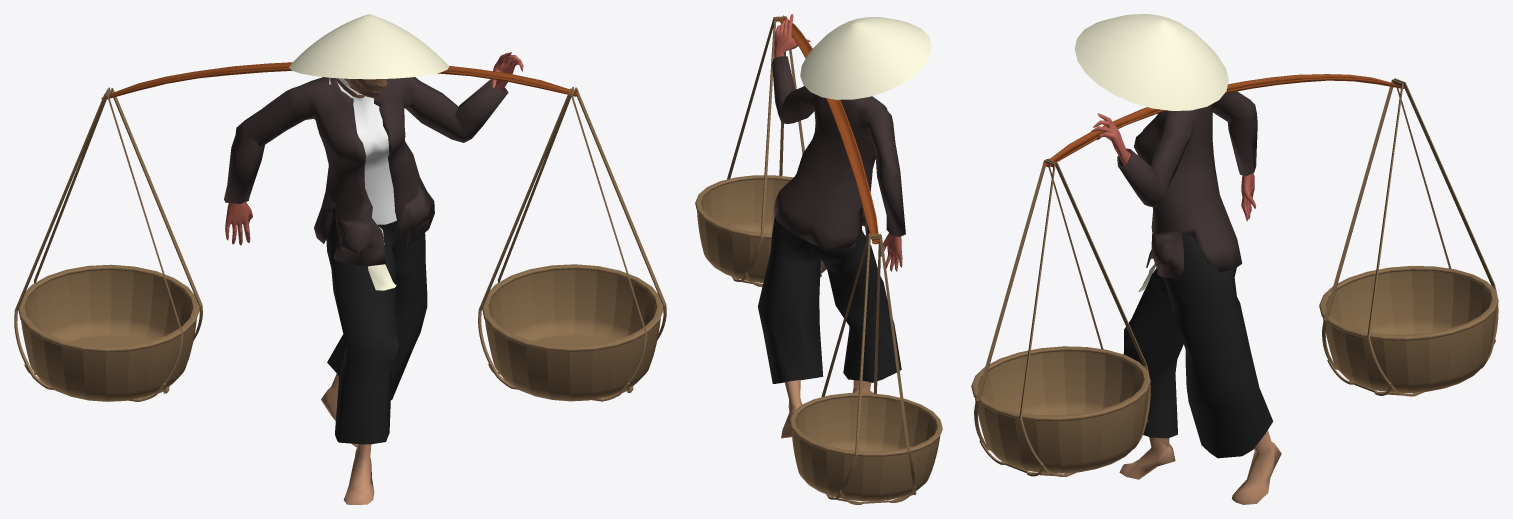
Rendered from dim2.obj.
3 views of the same model, side by side, from view 1: azimuth 30°, elevation 25°; view 2: azimuth 150°, elevation 25°; view 3: azimuth 270°, elevation 25° (orthographic). The views are drawn at different scales.
Parts seen in each view (by area): view 1: Mesh4 Group5 Group1 Model, Mesh26 Group17 Group_24_1 Model, Mesh31 Group19 Group_24_2 Model, Mesh6 Group7 Group1 Model, Mesh18 Group12 Group11 Group1 Model, Mesh16 Group9 Group1 Model, Mesh21 Group15 Model, Mesh3 Group4 Group1 Model, Mesh29 Group_21_7 Group18 Group_24_2 Model, Mesh24 Group_21_3 Group16 Group_24_1 Model, Mesh22 Group_21_1 Group16 Group_24_1 Model, Mesh27 Group_21_5 Group18 Group_24_2 Model (+4 smaller); view 2: Mesh6 Group7 Group1 Model, Mesh4 Group5 Group1 Model, Mesh31 Group19 Group_24_2 Model, Mesh18 Group12 Group11 Group1 Model, Mesh26 Group17 Group_24_1 Model, Mesh21 Group15 Model, Mesh28 Group_21_6 Group18 Group_24_2 Model, Mesh29 Group_21_7 Group18 Group_24_2 Model, Mesh23 Group_21_2 Group16 Group_24_1 Model, Mesh1 Group2 Group1 Model, Mesh5 Group6 Group1 Model, Mesh27 Group_21_5 Group18 Group_24_2 Model (+3 smaller); view 3: Mesh6 Group7 Group1 Model, Mesh26 Group17 Group_24_1 Model, Mesh31 Group19 Group_24_2 Model, Mesh4 Group5 Group1 Model, Mesh18 Group12 Group11 Group1 Model, Mesh21 Group15 Model, Mesh5 Group6 Group1 Model, Mesh25 Group_21_4 Group16 Group_24_1 Model, Mesh30 Group_21_8 Group18 Group_24_2 Model, Mesh27 Group_21_5 Group18 Group_24_2 Model, Mesh22 Group_21_1 Group16 Group_24_1 Model, Mesh3 Group4 Group1 Model (+3 smaller).
Boxes of the visible parts, <box> form: Mesh4 Group5 Group1 Model: <box>224,77,508,266</box>; Mesh26 Group17 Group_24_1 Model: <box>482,264,663,401</box>; Mesh31 Group19 Group_24_2 Model: <box>18,264,199,401</box>; Mesh6 Group7 Group1 Model: <box>326,206,427,444</box>; Mesh18 Group12 Group11 Group1 Model: <box>289,14,449,79</box>; Mesh16 Group9 Group1 Model: <box>337,81,396,224</box>; Mesh21 Group15 Model: <box>101,62,577,99</box>; Mesh3 Group4 Group1 Model: <box>343,444,374,504</box>; Mesh29 Group_21_7 Group18 Group_24_2 Model: <box>14,91,107,390</box>; Mesh24 Group_21_3 Group16 Group_24_1 Model: <box>478,90,571,389</box>; Mesh22 Group_21_1 Group16 Group_24_1 Model: <box>573,87,666,339</box>; Mesh27 Group_21_5 Group18 Group_24_2 Model: <box>110,88,202,340</box>; Mesh6 Group7 Group1 Model: <box>758,216,901,383</box>; Mesh4 Group5 Group1 Model: <box>772,56,905,250</box>; Mesh31 Group19 Group_24_2 Model: <box>789,393,942,501</box>; Mesh18 Group12 Group11 Group1 Model: <box>800,17,931,99</box>; Mesh26 Group17 Group_24_1 Model: <box>695,175,826,282</box>; Mesh21 Group15 Model: <box>778,15,880,244</box>; Mesh28 Group_21_6 Group18 Group_24_2 Model: <box>826,235,876,504</box>; Mesh29 Group_21_7 Group18 Group_24_2 Model: <box>875,235,916,502</box>; Mesh23 Group_21_2 Group16 Group_24_1 Model: <box>731,17,780,286</box>; Mesh1 Group2 Group1 Model: <box>773,14,810,57</box>; Mesh5 Group6 Group1 Model: <box>781,380,802,438</box>; Mesh27 Group_21_5 Group18 Group_24_2 Model: <box>821,234,874,397</box>; Mesh6 Group7 Group1 Model: <box>1123,232,1273,458</box>; Mesh26 Group17 Group_24_1 Model: <box>971,346,1150,473</box>; Mesh31 Group19 Group_24_2 Model: <box>1319,266,1498,393</box>; Mesh4 Group5 Group1 Model: <box>1117,91,1257,278</box>; Mesh18 Group12 Group11 Group1 Model: <box>1074,14,1228,110</box>; Mesh21 Group15 Model: <box>1043,74,1404,167</box>; Mesh5 Group6 Group1 Model: <box>1232,430,1281,504</box>; Mesh25 Group_21_4 Group16 Group_24_1 Model: <box>974,160,1049,468</box>; Mesh30 Group_21_8 Group18 Group_24_2 Model: <box>1322,79,1397,388</box>; Mesh27 Group_21_5 Group18 Group_24_2 Model: <box>1363,81,1424,396</box>; Mesh22 Group_21_1 Group16 Group_24_1 Model: <box>1016,162,1076,476</box>; Mesh3 Group4 Group1 Model: <box>1119,437,1175,479</box>.
Bounding box in the file's own units: 1687 × 1694 × 1750.
